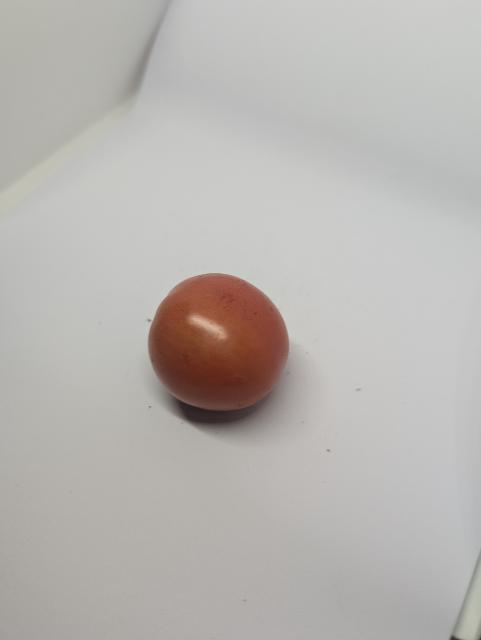red: (130, 261, 303, 430)
